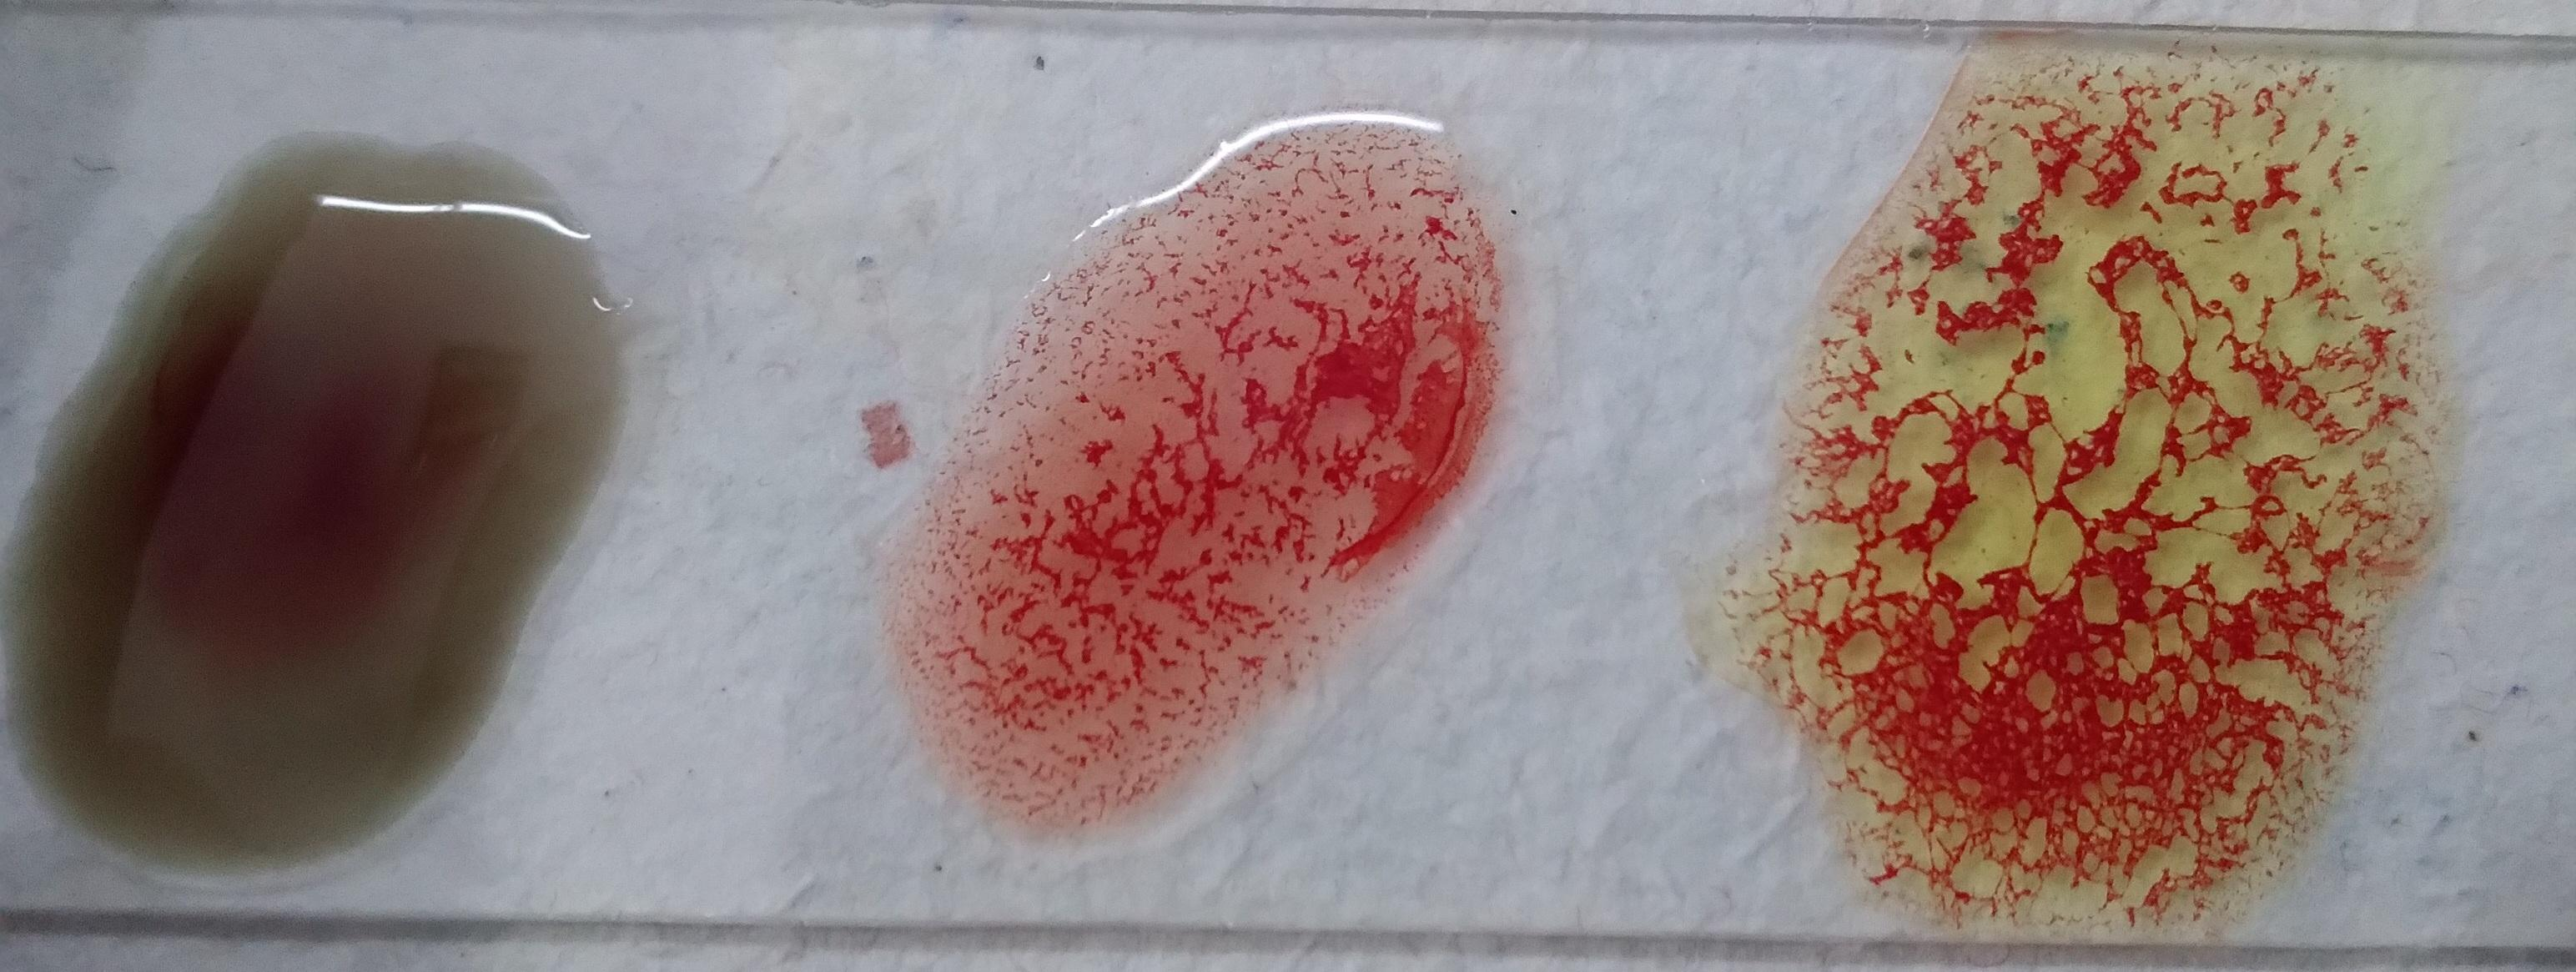B: (158, 28, 810, 923)
D: (1088, 112, 1677, 846)
